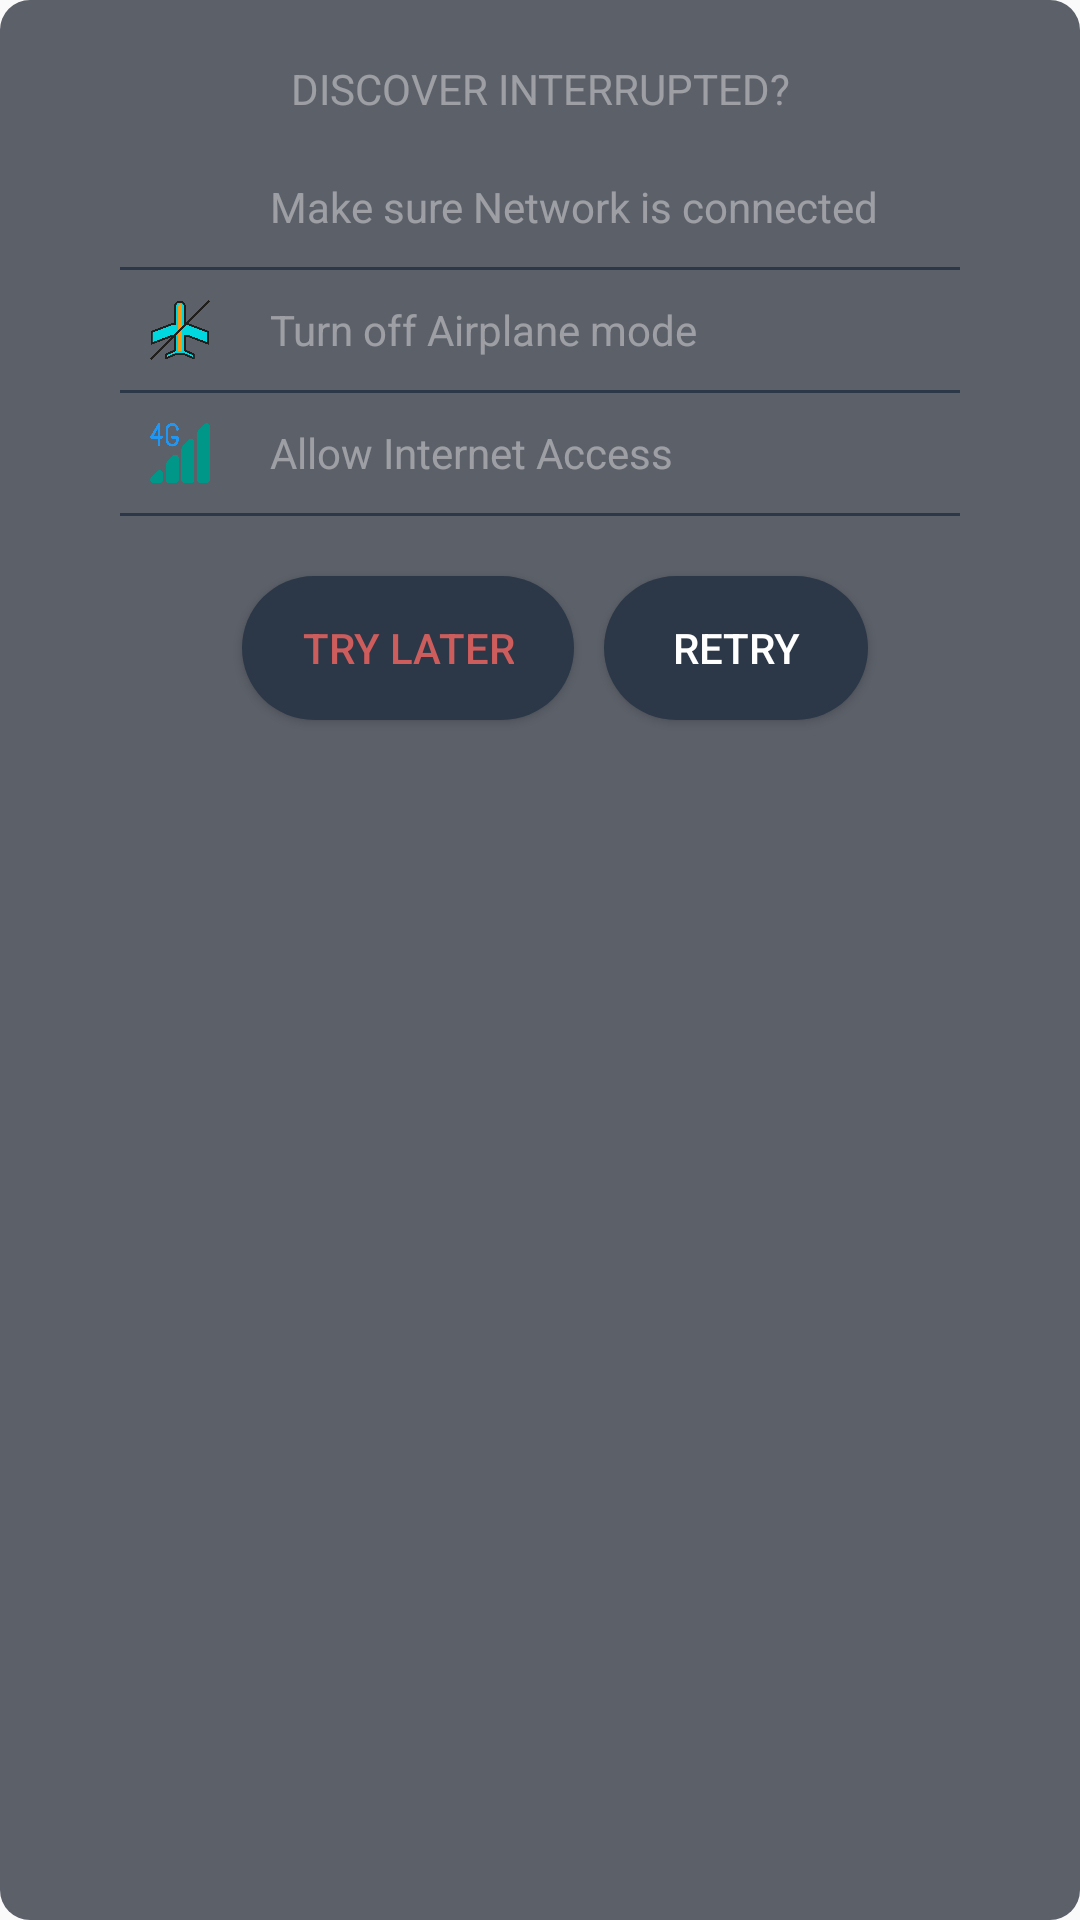

Screen size 1080×1920. Icon name, then its box in pixels as (x1, y1, x2, y2):
network: (150, 423, 210, 483)
